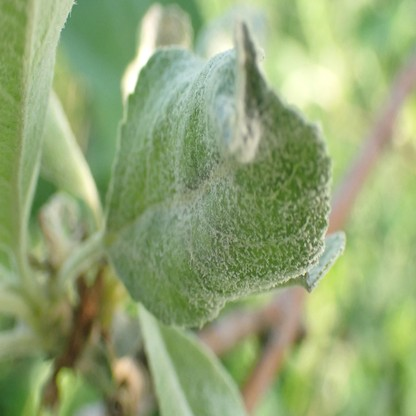powdery_mildew: (105, 17, 346, 330), (200, 382, 242, 416)
